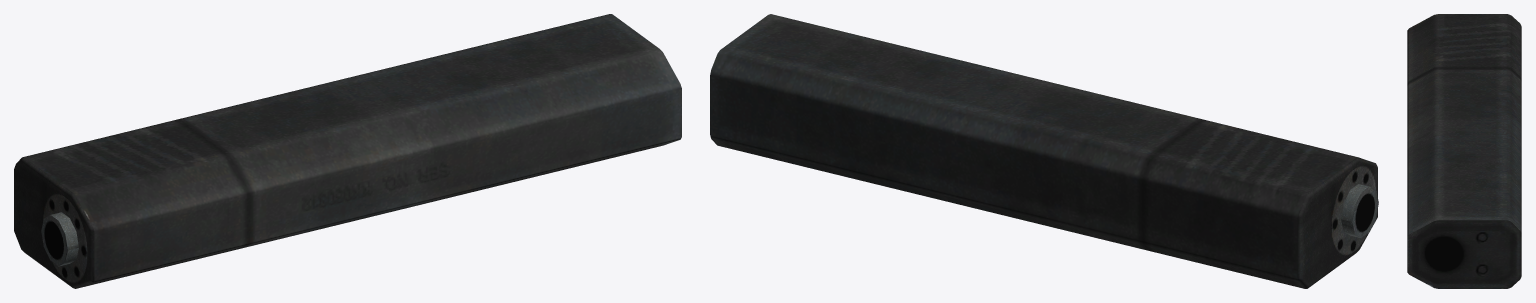
File: t6_attach_pistol_silencer_view_LOD0.obj
The picture shows the model from 3 angles, left to right: view 1: azimuth 30°, elevation 25°; view 2: azimuth 150°, elevation 25°; view 3: azimuth 270°, elevation 25°; orthographic projection. The views are drawn at different scales.
Parts seen in each view (by area): view 1: mtl_t6_attach_pistol_silencer; view 2: mtl_t6_attach_pistol_silencer; view 3: mtl_t6_attach_pistol_silencer.
Part boxes in pixels (x1,y1,x2,y2): mtl_t6_attach_pistol_silencer: [14, 14, 681, 288]; mtl_t6_attach_pistol_silencer: [710, 14, 1378, 288]; mtl_t6_attach_pistol_silencer: [1407, 14, 1521, 288].
Bounding box in the file's own units: 20 × 3.03 × 4.58.
